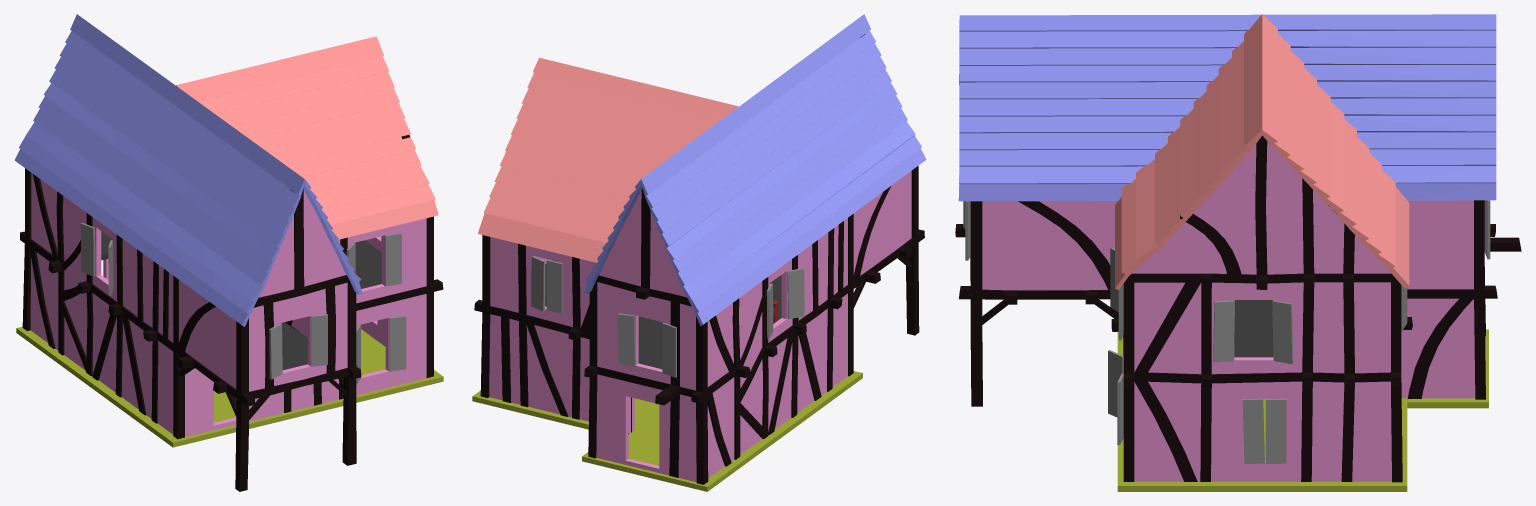
Rendered from House 1.FBX.
3 views of the same model, side by side, from view 1: azimuth 30°, elevation 25°; view 2: azimuth 150°, elevation 25°; view 3: azimuth 270°, elevation 25° (orthographic). The views are drawn at different scales.
Visible parts, largest first — view 1: Roof_0205, Walls02, Roof_0105, Support pillars05, Bottom_floor05, Window panels05, Top_floor05; view 2: Roof_0205, Walls02, Roof_0105, Support pillars05, Bottom_floor05, Window panels05, Top_floor05; view 3: Roof_0205, Walls02, Support pillars05, Roof_0105, Window panels05, Bottom_floor05, Top_floor05.
Boxes of the visible parts, x1=… form: Roof_0205: x1=14, y1=14, x2=362, y2=326; Walls02: x1=30, y1=87, x2=426, y2=436; Roof_0105: x1=176, y1=36, x2=438, y2=239; Support pillars05: x1=20, y1=135, x2=443, y2=491; Bottom_floor05: x1=16, y1=326, x2=443, y2=447; Window panels05: x1=80, y1=223, x2=406, y2=384; Top_floor05: x1=101, y1=231, x2=381, y2=370; Roof_0205: x1=584, y1=14, x2=926, y2=325; Walls02: x1=489, y1=112, x2=911, y2=481; Roof_0105: x1=478, y1=57, x2=738, y2=262; Support pillars05: x1=474, y1=34, x2=924, y2=484; Bottom_floor05: x1=472, y1=371, x2=862, y2=491; Window panels05: x1=531, y1=256, x2=804, y2=377; Top_floor05: x1=545, y1=260, x2=781, y2=368; Roof_0205: x1=958, y1=14, x2=1496, y2=201; Walls02: x1=982, y1=141, x2=1475, y2=481; Support pillars05: x1=955, y1=135, x2=1521, y2=482; Roof_0105: x1=1115, y1=14, x2=1409, y2=290; Window panels05: x1=963, y1=200, x2=1490, y2=463; Bottom_floor05: x1=1117, y1=329, x2=1488, y2=491; Top_floor05: x1=1234, y1=300, x2=1273, y2=357.
Size of the model in its own units: 9.9 by 10.28 by 14.68.
